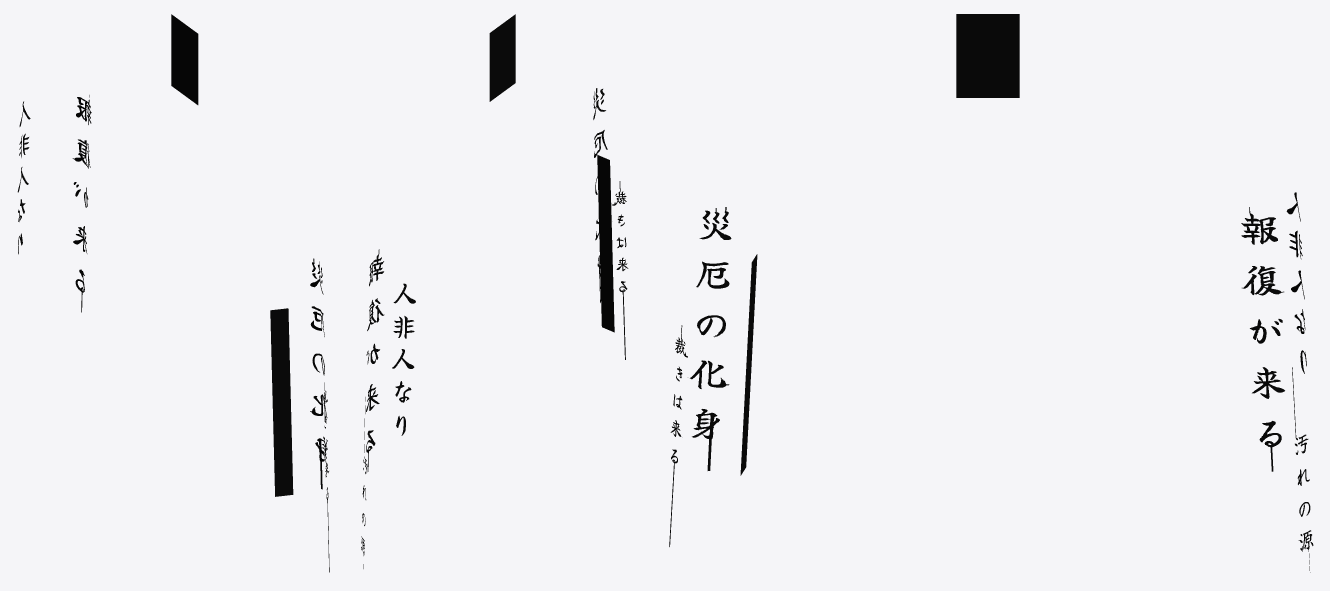
The model's file is Beleidigungen Tori 1.fbx.
The picture shows the model from 3 angles, left to right: view 1: azimuth 30°, elevation 25°; view 2: azimuth 150°, elevation 25°; view 3: azimuth 270°, elevation 25°; orthographic projection. The views are drawn at different scales.
Visible parts, largest first — view 1: Cylinder.019, Cube.075, Cylinder.021, Cylinder.001; view 2: Cylinder.019, Cube.075, Cylinder.021, Cylinder.032, Cylinder.001, Cylinder.026; view 3: Cube.075, Cylinder.021, Cylinder.001, Cylinder.019.
Part boxes in pixels (x1,y1,x2,y2): Cylinder.019: (270,308,293,496); Cube.075: (171,14,198,104); Cylinder.021: (72,95,91,312); Cylinder.001: (310,258,327,489); Cylinder.019: (597,155,614,332); Cube.075: (489,14,515,101); Cylinder.021: (366,249,384,471); Cylinder.032: (392,283,415,435); Cylinder.001: (593,88,607,302); Cylinder.026: (612,181,628,359); Cube.075: (956,14,1019,97); Cylinder.021: (1241,207,1284,471); Cylinder.001: (690,207,731,470); Cylinder.019: (740,254,757,475).
Bounding box in the file's own units: 1.14 × 8.69 × 9.29.
7 materials, 7 textured.
